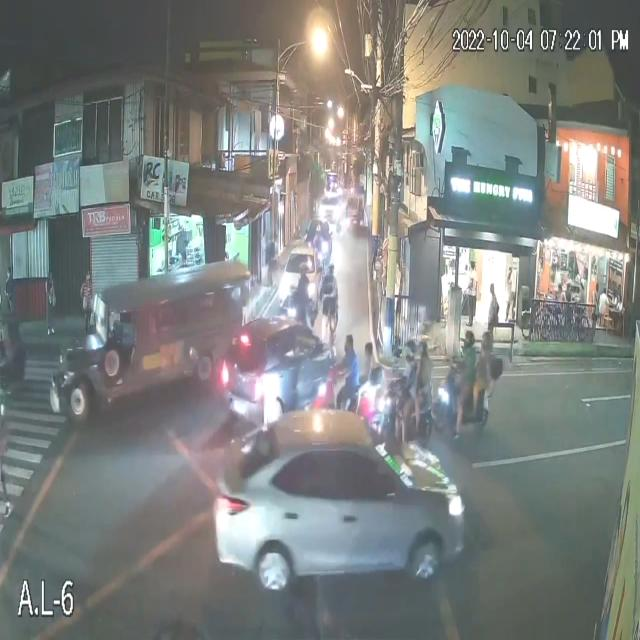Full-Faced: (474, 327, 492, 353), (416, 332, 429, 359), (402, 337, 416, 362), (300, 259, 312, 284), (463, 330, 476, 351)
Not-Wearing-Helmet: (341, 333, 358, 359)
